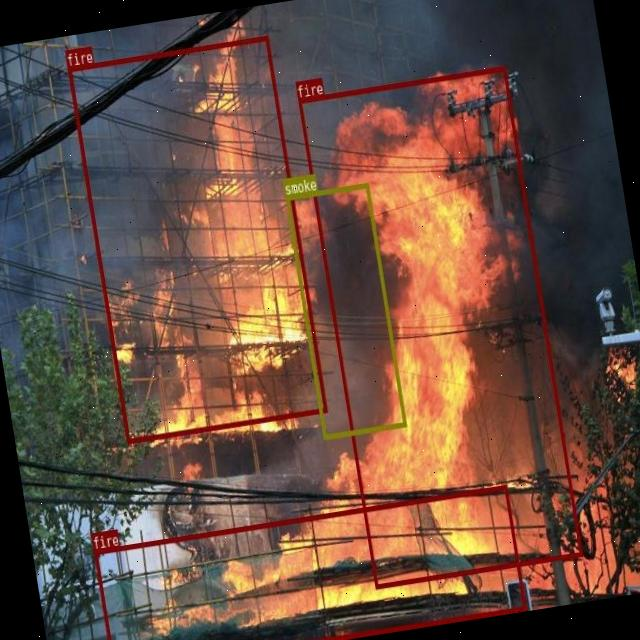fire: (298, 65, 583, 588), (68, 36, 326, 444), (93, 484, 526, 640)
smoke: (285, 182, 407, 439)
